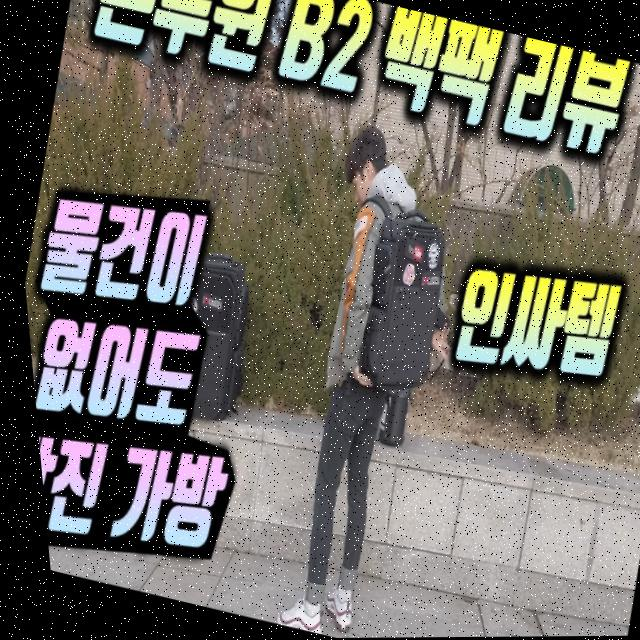backpack: (301, 190, 470, 416)
